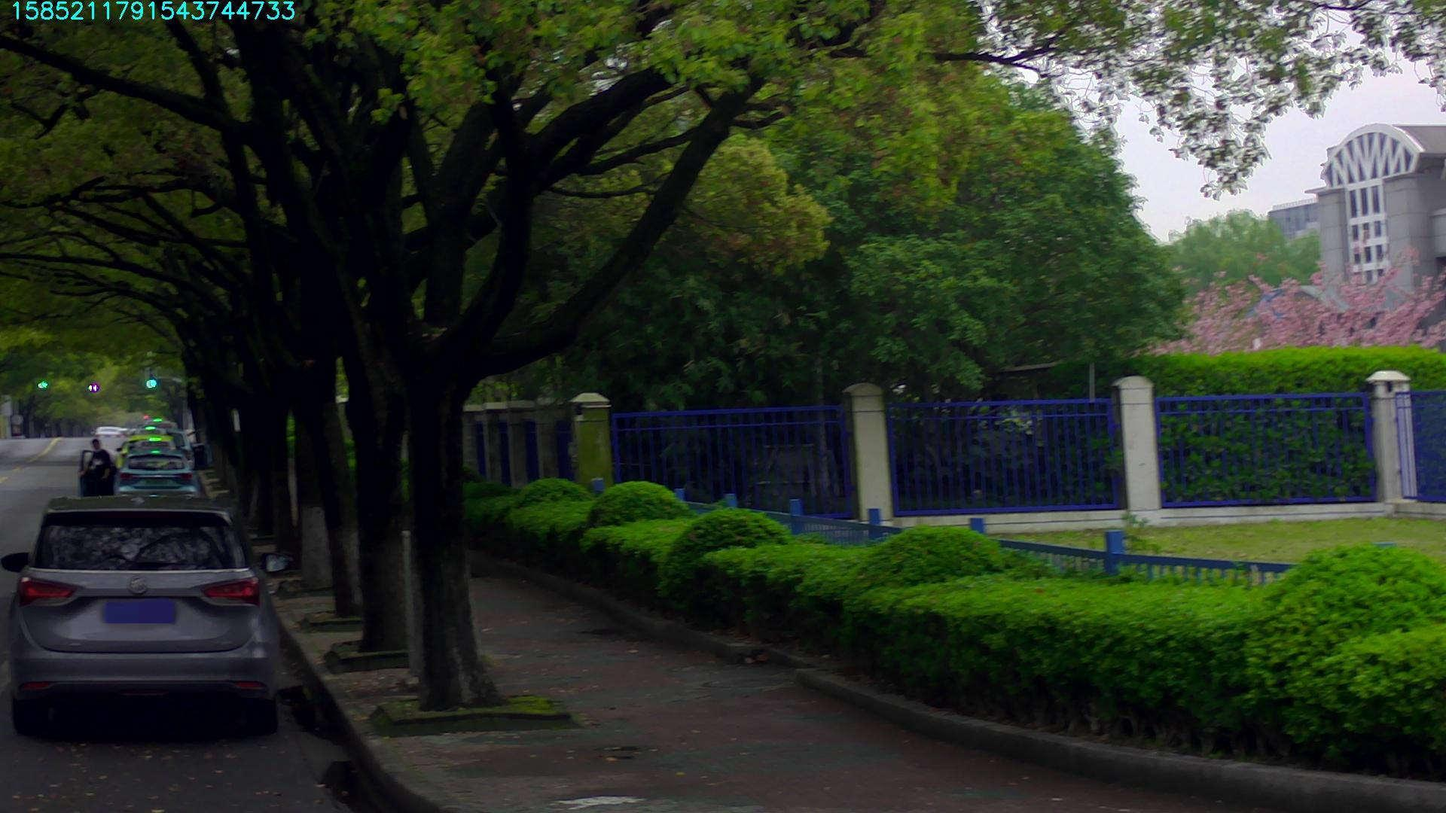green: (145, 364, 157, 388), (37, 379, 48, 390)
